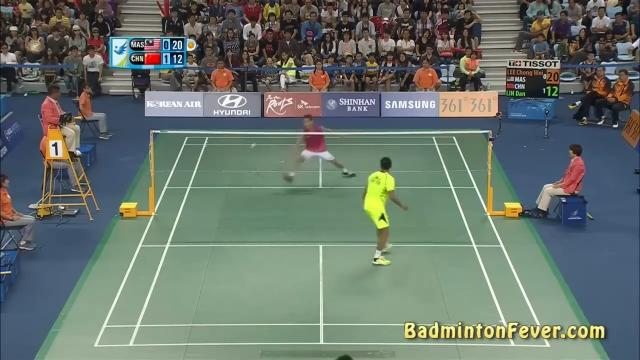Shuttlecock: (250, 140, 258, 150)
